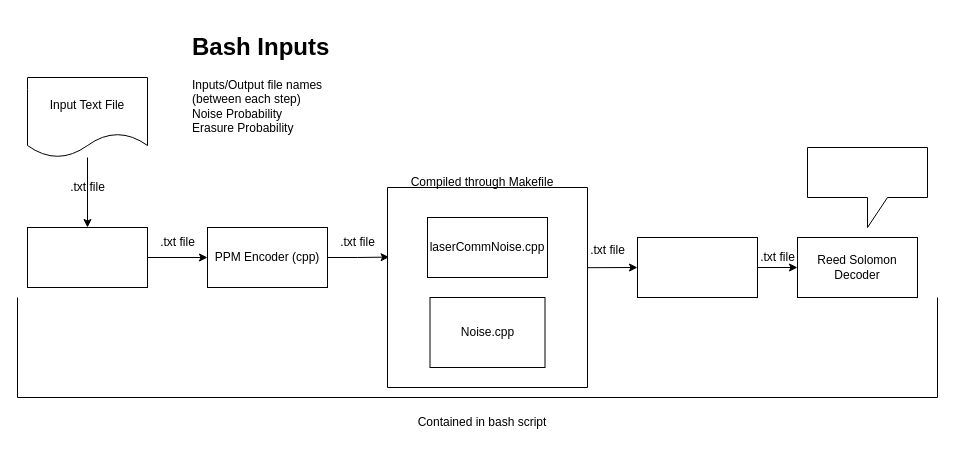
The diagram is 956 pixels wide and 454 high, and some of its shapes have lost their labels. Here are the shapes that lost their labels. From the top down, the box of each, then its label:
(806, 146, 928, 228): Prints Message
(26, 226, 148, 288): Reed Solomon Encoder
(636, 236, 758, 298): PPM Decoder (cpp)
